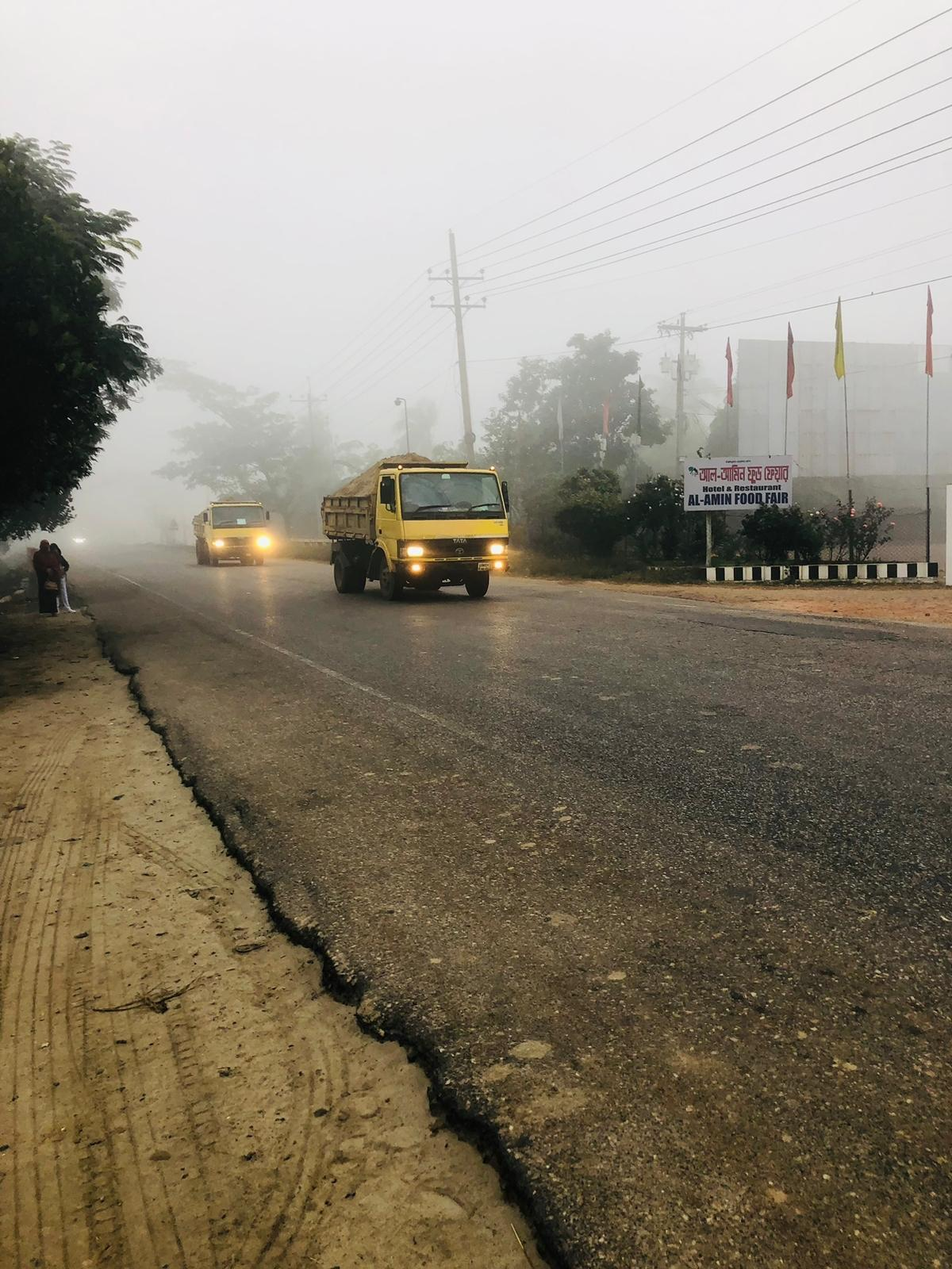Truck: (295, 450, 530, 612), (175, 486, 288, 569)
